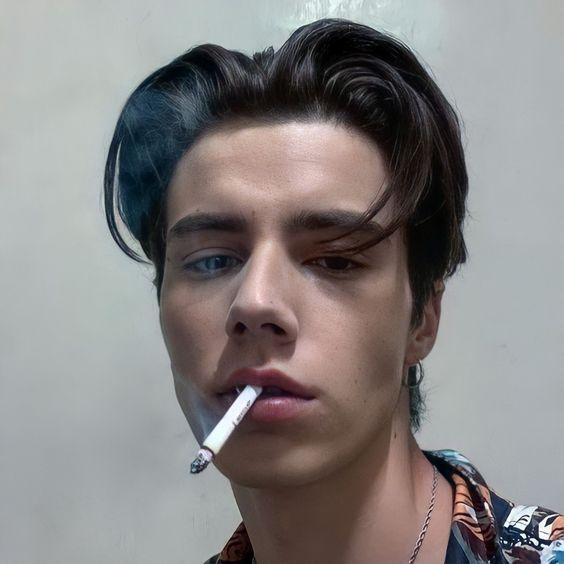cigarette: (190, 383, 263, 474)
